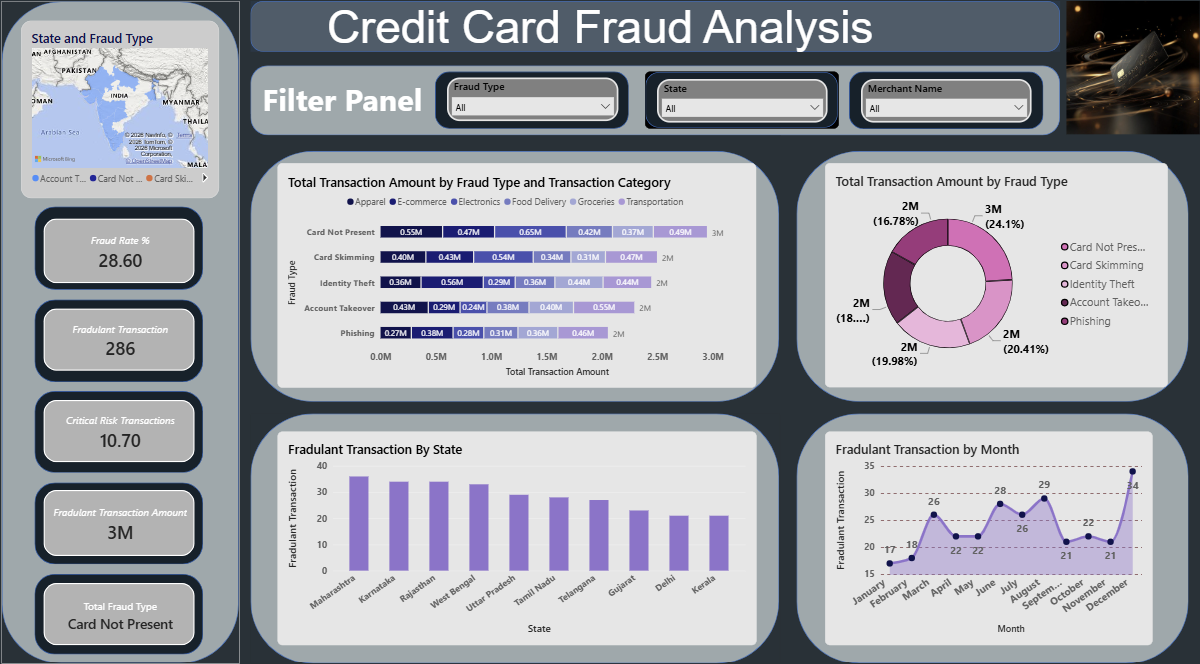

What the dashboard file says about the page in this screenshot:
{"tool":"powerbi","page":{"name":"Page 1","canvas":[1920,1080],"ordinal":0},"visuals":[{"type":"shape","box":[405,15,1275,80],"z":0},{"type":"textbox","box":[524,14,874,100],"z":1000},{"type":"shape","box":[405,115,1275,110],"z":2000},{"type":"shape","box":[695,125,305,90],"z":3000},{"type":"shape","box":[1025,125,305,90],"z":4000},{"type":"shape","box":[1346.9,125,306.2,90.6],"z":5000},{"type":"textbox","box":[422.5,135,272.5,77.5],"z":6000},{"type":"shape","box":[12.5,15,375,1045],"z":7000},{"type":"shape","box":[64.4,338.9,265.6,131.1],"z":8000},{"type":"shape","box":[64.4,483.3,265.6,130],"z":9000},{"type":"shape","box":[64.4,628.9,265.6,128.9],"z":10000},{"type":"shape","box":[64.4,772.2,265.6,128.9],"z":11000},{"type":"shape","box":[64.4,916.7,265.6,126.7],"z":12000},{"type":"shape","box":[405,665,832.5,395],"z":13000},{"type":"shape","box":[405,250,832.5,395],"z":14000},{"type":"shape","box":[1265,250,617.5,395],"z":15000},{"type":"shape","box":[1264.9,664.9,617.5,394.7],"z":16000},{"type":"barChart","title":"Total Transaction Amount by Fraud Type and Transaction Category","fields":{"Category":["Credit Card Fraud Risk Analysis.Fraud Type"],"Series":["Credit Card Fraud Risk Analysis.Transaction Category"],"Y":["Credit Card Fraud Risk Analysis.Total Transaction Amount"]},"box":[446.5,269.3,753.7,354],"z":17000},{"type":"donutChart","fields":{"Category":["Credit Card Fraud Risk Analysis.Fraud Type"],"Y":["Credit Card Fraud Risk Analysis.Total Transaction Amount"]},"box":[1308.3,270,540,353.3],"z":18000},{"type":"columnChart","title":"Fradulant Transaction By State","fields":{"Category":["Credit Card Fraud Risk Analysis.State"],"Y":["Credit Card Fraud Risk Analysis.Fradulant Transaction"]},"box":[447.4,693,754.4,336.8],"z":19000},{"type":"lineChart","fields":{"Category":["Credit Card Fraud Risk Analysis.Transaction Date.Variation.Date Hierarchy.Month"],"Y":["Credit Card Fraud Risk Analysis.Fradulant Transaction"]},"box":[1308.8,693,515.8,336.8],"z":20000},{"type":"slicer","fields":{"Values":["Credit Card Fraud Risk Analysis.Fraud Type"]},"box":[712.9,135.7,270,68.6],"z":21000},{"type":"slicer","fields":{"Values":["Credit Card Fraud Risk Analysis.State"]},"box":[1043.8,135.9,268.8,68.8],"z":22000},{"type":"slicer","fields":{"Values":["Credit Card Fraud Risk Analysis.Merchant Name"]},"box":[1365.6,135.9,268.8,68.8],"z":23000},{"type":"cardVisual","fields":{"Data":["Credit Card Fraud Risk Analysis.Fraud Rate %"]},"box":[77,356,238,102],"z":24000},{"type":"cardVisual","fields":{"Data":["Credit Card Fraud Risk Analysis.Fradulant Transaction"]},"box":[77,499,238,98],"z":25000},{"type":"cardVisual","fields":{"Data":["Credit Card Fraud Risk Analysis.Critical Risk Transactions"]},"box":[77,643,238,98],"z":26000},{"type":"cardVisual","fields":{"Data":["Credit Card Fraud Risk Analysis.Fradulant Transaction Amount"]},"box":[77,785,238,104],"z":27000},{"type":"cardVisual","fields":{"Data":["Credit Card Fraud Risk Analysis.Total Fraud Type"]},"box":[77,931,238,98],"z":28000},{"type":"filledMap","fields":{"Category":["Credit Card Fraud Risk Analysis.State"],"Series":["Credit Card Fraud Risk Analysis.Fraud Type"]},"box":[42,46,312,280],"z":29000},{"type":"image","box":[1680,15,228.8,210],"z":29001}]}

Visuals, with their boxes in screenshot pixels (x1, y1, x2, y2), scaled from the page's 1920x1080 canvas onto the 1200x664 screenshot:
shape: (x1=253, y1=9, x2=1050, y2=58)
textbox: (x1=328, y1=9, x2=874, y2=70)
shape: (x1=253, y1=71, x2=1050, y2=138)
shape: (x1=434, y1=77, x2=625, y2=132)
shape: (x1=641, y1=77, x2=831, y2=132)
shape: (x1=842, y1=77, x2=1033, y2=133)
textbox: (x1=264, y1=83, x2=434, y2=131)
shape: (x1=8, y1=9, x2=242, y2=652)
shape: (x1=40, y1=208, x2=206, y2=289)
shape: (x1=40, y1=297, x2=206, y2=377)
shape: (x1=40, y1=387, x2=206, y2=466)
shape: (x1=40, y1=475, x2=206, y2=554)
shape: (x1=40, y1=564, x2=206, y2=641)
shape: (x1=253, y1=409, x2=773, y2=652)
shape: (x1=253, y1=154, x2=773, y2=397)
shape: (x1=791, y1=154, x2=1177, y2=397)
shape: (x1=791, y1=409, x2=1176, y2=651)
"Total Transaction Amount by Fraud Type and Transaction Category" barChart: (x1=279, y1=166, x2=750, y2=383)
donutChart - Credit Card Fraud Risk Analysis.Fraud Type x Credit Card Fraud Risk Analysis.Total Transaction Amount: (x1=818, y1=166, x2=1155, y2=383)
"Fradulant Transaction By State" columnChart: (x1=280, y1=426, x2=751, y2=633)
lineChart - Credit Card Fraud Risk Analysis.Transaction Date.Variation.Date Hierarchy.Month x Credit Card Fraud Risk Analysis.Fradulant Transaction: (x1=818, y1=426, x2=1140, y2=633)
slicer - Credit Card Fraud Risk Analysis.Fraud Type: (x1=446, y1=83, x2=614, y2=126)
slicer - Credit Card Fraud Risk Analysis.State: (x1=652, y1=84, x2=820, y2=126)
slicer - Credit Card Fraud Risk Analysis.Merchant Name: (x1=854, y1=84, x2=1021, y2=126)
cardVisual - Credit Card Fraud Risk Analysis.Fraud Rate %: (x1=48, y1=219, x2=197, y2=282)
cardVisual - Credit Card Fraud Risk Analysis.Fradulant Transaction: (x1=48, y1=307, x2=197, y2=367)
cardVisual - Credit Card Fraud Risk Analysis.Critical Risk Transactions: (x1=48, y1=395, x2=197, y2=456)
cardVisual - Credit Card Fraud Risk Analysis.Fradulant Transaction Amount: (x1=48, y1=483, x2=197, y2=547)
cardVisual - Credit Card Fraud Risk Analysis.Total Fraud Type: (x1=48, y1=572, x2=197, y2=633)
filledMap - Credit Card Fraud Risk Analysis.State x Credit Card Fraud Risk Analysis.Fraud Type: (x1=26, y1=28, x2=221, y2=200)
image: (x1=1050, y1=9, x2=1193, y2=138)
